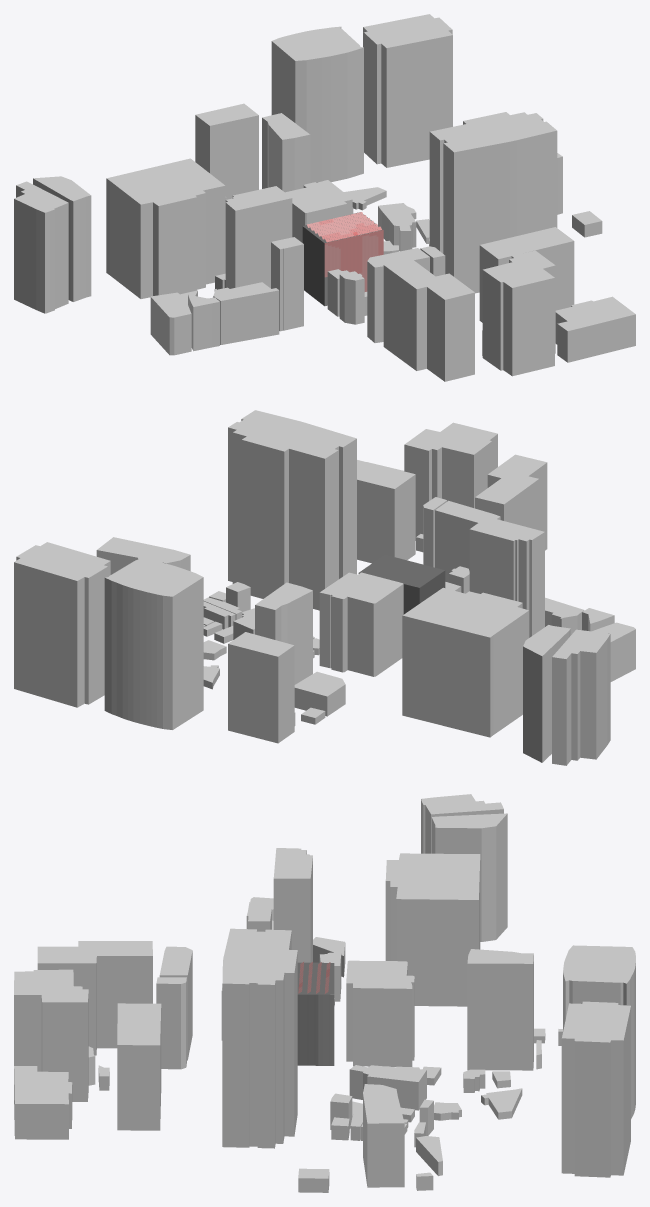
3 renders of one model, top to bottom at view 1: azimuth 30°, elevation 25°; view 2: azimuth 150°, elevation 25°; view 3: azimuth 270°, elevation 25°, orthographic. The views are drawn at different scales.
Size of the model in its own units: 298 by 81.5 by 277.
